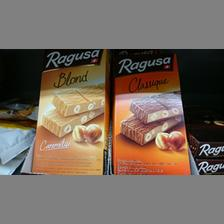Schokolade: (113, 50, 191, 174), (34, 50, 110, 172)
